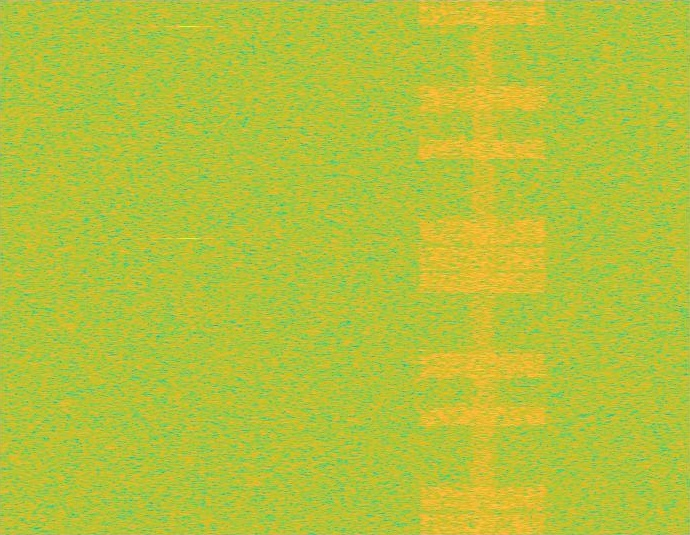DSSS: (467, 0, 499, 534)
LTE: (414, 0, 552, 534)
Radar: (182, 0, 195, 534)
